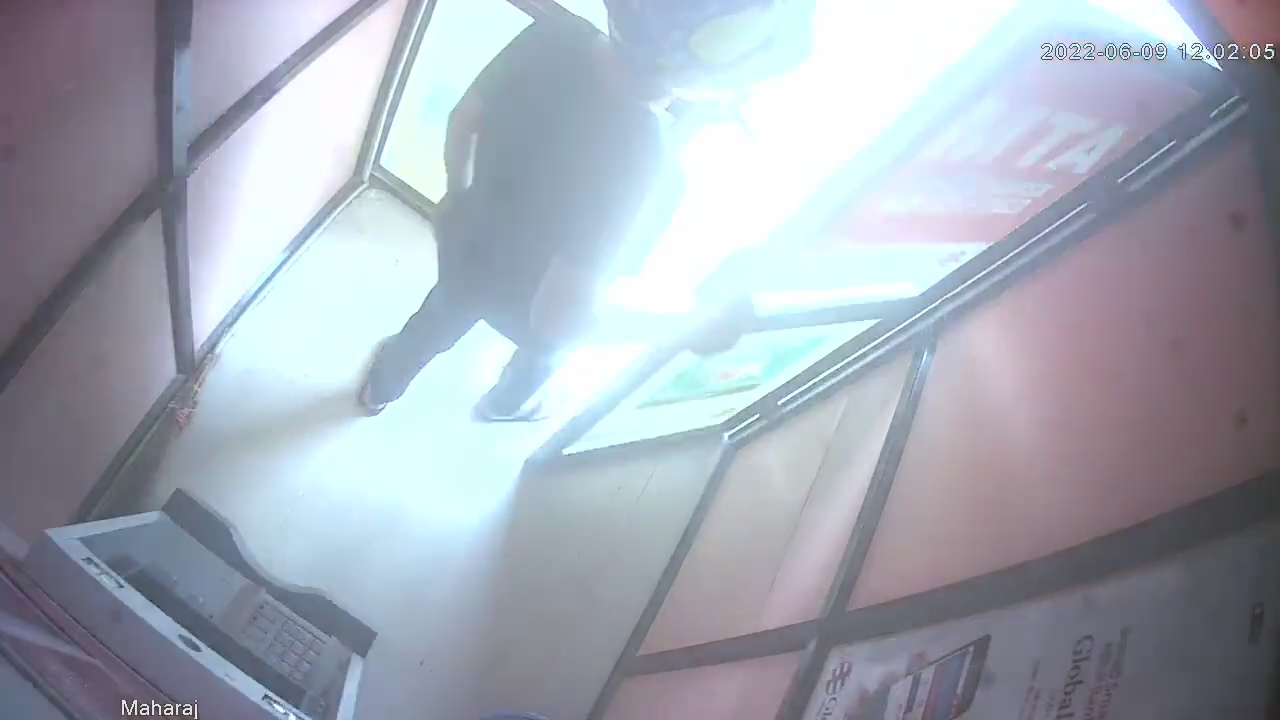helmet: (603, 1, 811, 93)
person: (358, 2, 779, 424)
